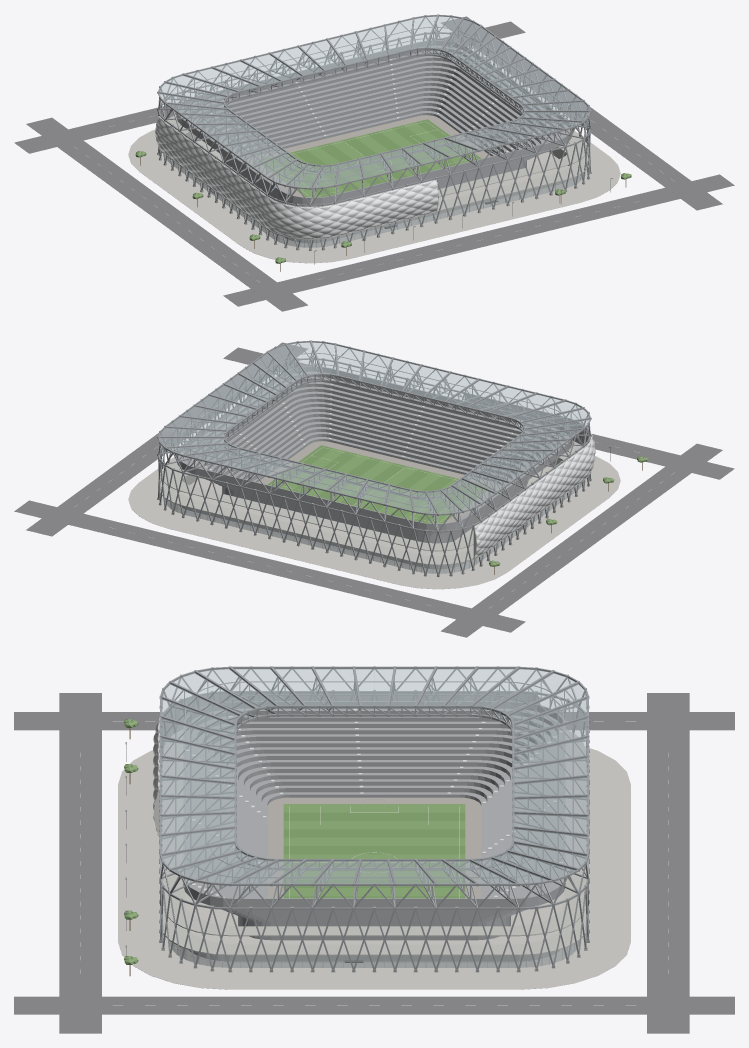
File: clay-etfe-truss-stadium-clay-v003.glb
3 renders of one model, top to bottom at view 1: azimuth 30°, elevation 25°; view 2: azimuth 150°, elevation 25°; view 3: azimuth 270°, elevation 25°, orthographic. The views are drawn at different scales.
Parts seen in each view (by area): view 1: CLAY_STEEL, CLAY_SEAT, CLAY_GLASS, CLAY_ASPHALT, CLAY_PAVING, CLAY_ETFE, CLAY_PITCH2, CLAY_PITCH, CLAY_CONCRETE, CLAY_TRACK, CLAY_TRIM, CLAY_PALE (+1 smaller); view 2: CLAY_STEEL, CLAY_SEAT, CLAY_GLASS, CLAY_ASPHALT, CLAY_PAVING, CLAY_CONCRETE, CLAY_ETFE, CLAY_PITCH2, CLAY_PITCH, CLAY_TRACK, CLAY_INTERIOR, CLAY_TRIM (+2 smaller); view 3: CLAY_SEAT, CLAY_GLASS, CLAY_ASPHALT, CLAY_STEEL, CLAY_PAVING, CLAY_CONCRETE, CLAY_PITCH2, CLAY_PITCH, CLAY_TRACK, CLAY_ETFEBACK, CLAY_INTERIOR, CLAY_PALE (+1 smaller).
Part boxes in pixels (x1,y1,x2,y2): CLAY_STEEL: [157, 14, 591, 250]; CLAY_SEAT: [176, 40, 572, 206]; CLAY_GLASS: [160, 16, 588, 247]; CLAY_ASPHALT: [14, 16, 734, 311]; CLAY_PAVING: [128, 129, 620, 263]; CLAY_ETFE: [155, 116, 438, 238]; CLAY_PITCH2: [257, 122, 469, 197]; CLAY_PITCH: [269, 119, 481, 196]; CLAY_CONCRETE: [159, 115, 588, 239]; CLAY_TRACK: [247, 115, 491, 197]; CLAY_TRIM: [159, 127, 583, 247]; CLAY_PALE: [155, 50, 557, 238]; CLAY_STEEL: [157, 340, 591, 576]; CLAY_SEAT: [176, 366, 572, 543]; CLAY_GLASS: [160, 342, 588, 573]; CLAY_ASPHALT: [14, 342, 734, 637]; CLAY_PAVING: [128, 456, 620, 589]; CLAY_CONCRETE: [160, 441, 591, 565]; CLAY_ETFE: [474, 434, 595, 558]; CLAY_PITCH2: [279, 448, 491, 523]; CLAY_PITCH: [267, 445, 479, 522]; CLAY_TRACK: [257, 441, 501, 523]; CLAY_INTERIOR: [179, 458, 562, 569]; CLAY_TRIM: [165, 447, 594, 573]; CLAY_SEAT: [183, 701, 565, 940]; CLAY_GLASS: [161, 669, 587, 967]; CLAY_ASPHALT: [14, 693, 734, 1033]; CLAY_STEEL: [159, 666, 589, 971]; CLAY_PAVING: [118, 746, 630, 989]; CLAY_CONCRETE: [159, 729, 587, 955]; CLAY_PITCH2: [283, 804, 465, 896]; CLAY_PITCH: [283, 812, 465, 898]; CLAY_TRACK: [267, 797, 481, 898]; CLAY_ETFEBACK: [159, 693, 536, 833]; CLAY_INTERIOR: [189, 950, 559, 961]; CLAY_PALE: [154, 699, 562, 897].
Size of the model in its own units: 302 by 36.5 by 270.
